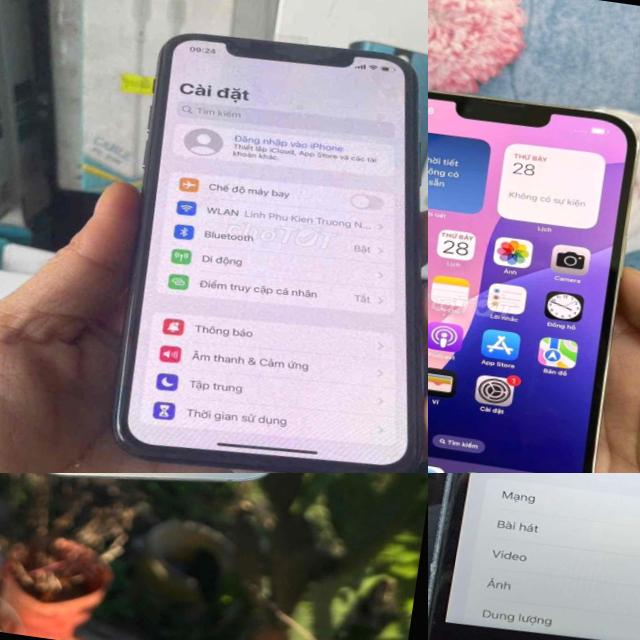gen_12_13: (428, 73, 640, 473)
gen_7_8: (428, 473, 640, 640)
gen_x_xs: (90, 20, 428, 473)
